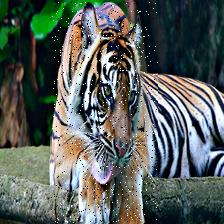tiger: (50, 3, 157, 224)
